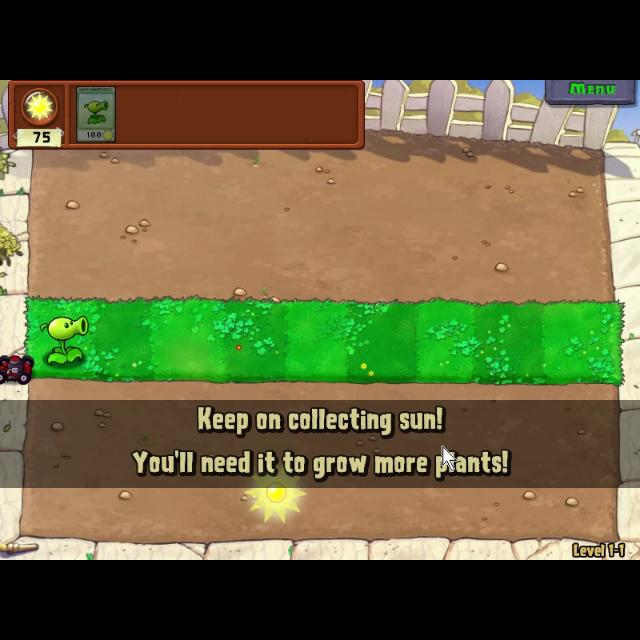Garden: (22, 296, 626, 386)
Menu Button: (545, 80, 637, 106)
Mower: (0, 350, 34, 386)
Peashooter: (74, 83, 118, 143)
Peashooter Seed: (38, 312, 88, 368)
Seed Panel: (4, 80, 370, 152)
Sun: (242, 472, 312, 528)
